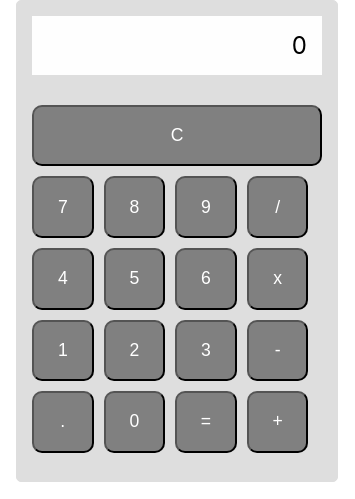
it: Calculator › subtract 4 from 7 and get 3
This screenshot has width=355, height=499.
Click the button with test id "number4": (63, 279) left=32, top=248, right=94, bottom=310
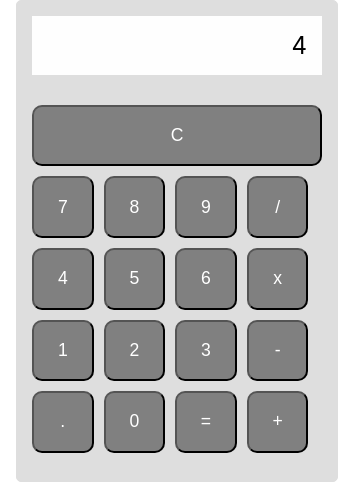
Click the button with test id "subtract": (278, 350) left=247, top=320, right=308, bottom=381
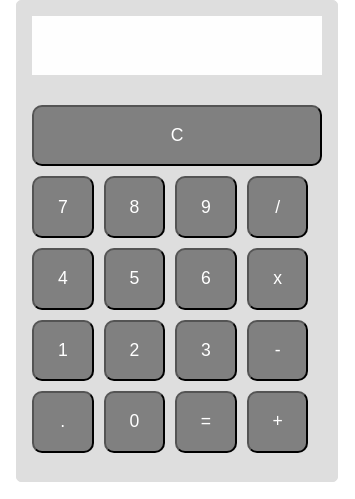
Click the button with test id "number7": (63, 207) left=32, top=176, right=94, bottom=238
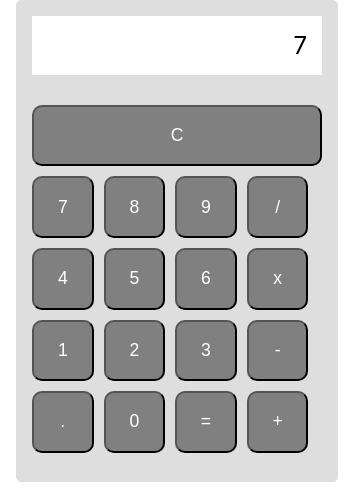
Click the button with test id "equals": (206, 422) left=175, top=391, right=237, bottom=453
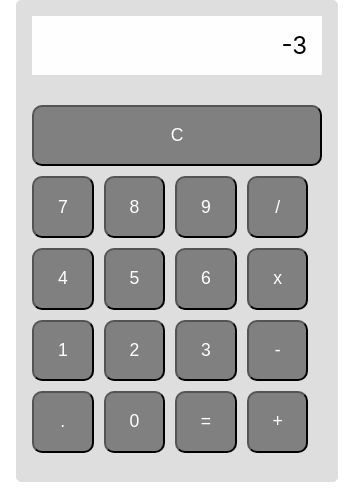
Result: the text with test id "running-total" shows "3" at left=281, top=31, right=307, bottom=60
